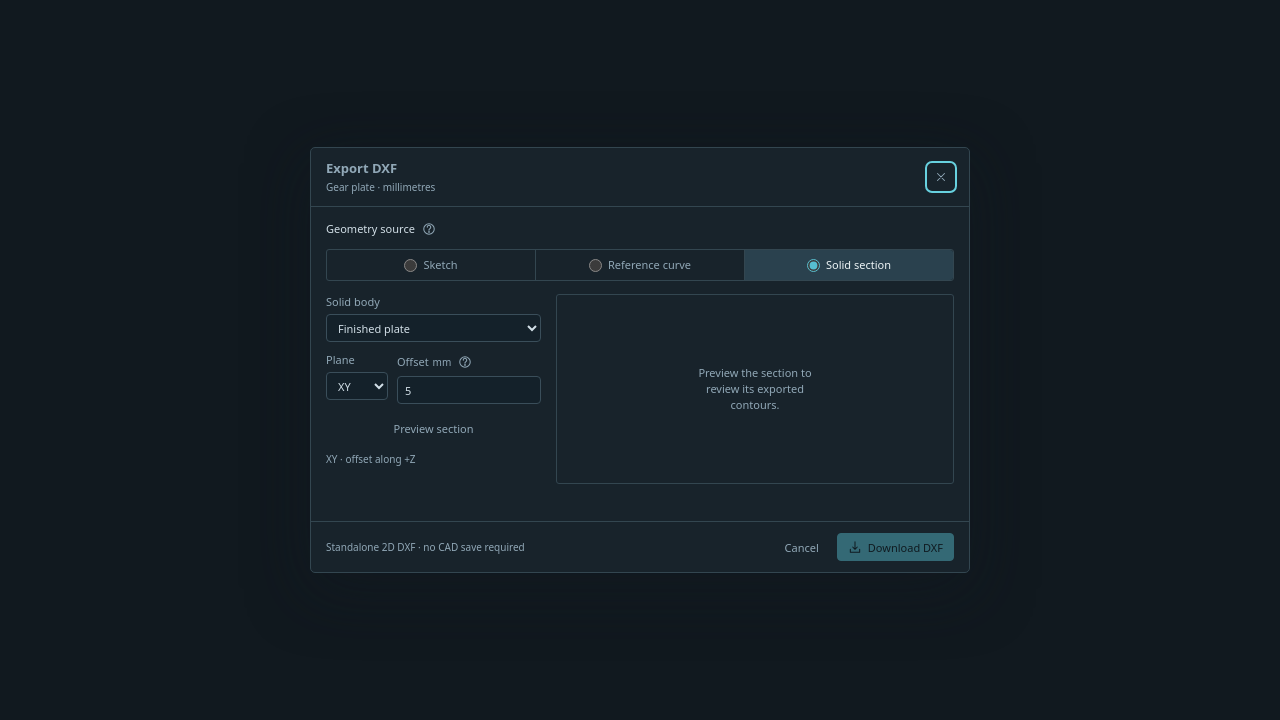
Test: keeps help inside the modal so keyboard and native dialog focus can reach it
Click the button named "DXF geometry source help".
click(429, 229)  # box 419,219 -> 439,239
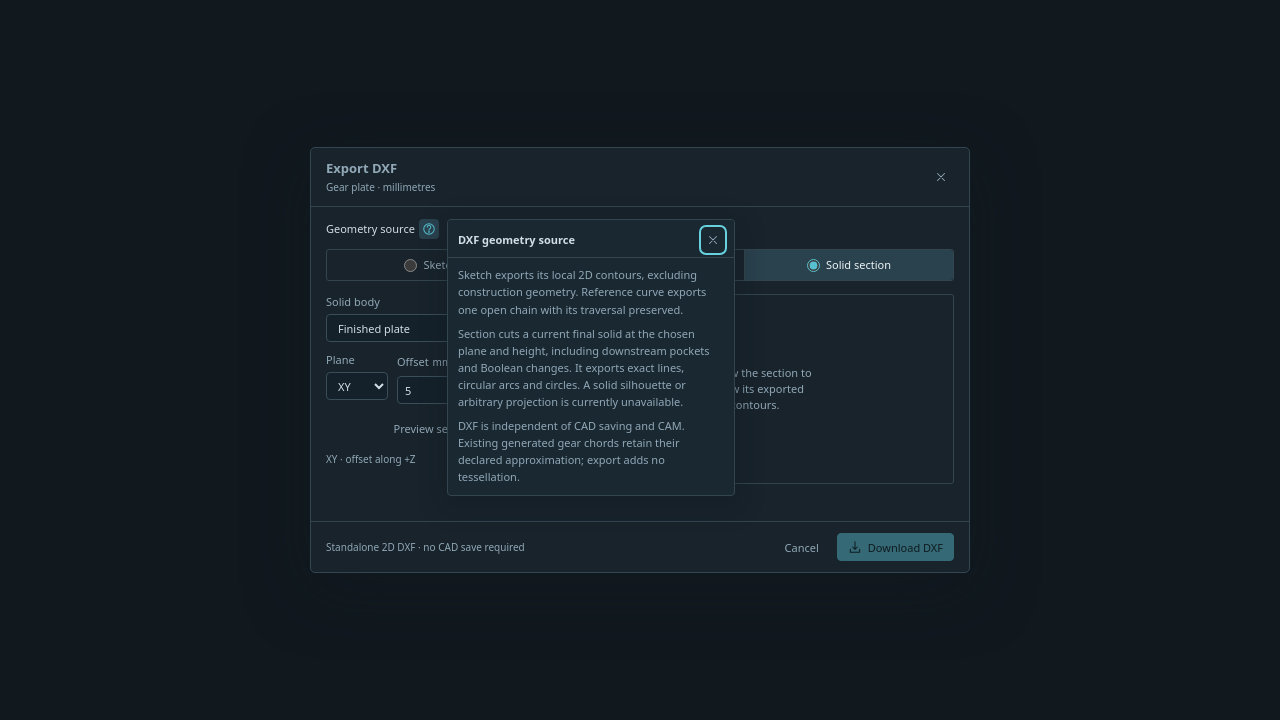
Expected: the dialog shows "solid silhouette", 458,326 -> 710,409
